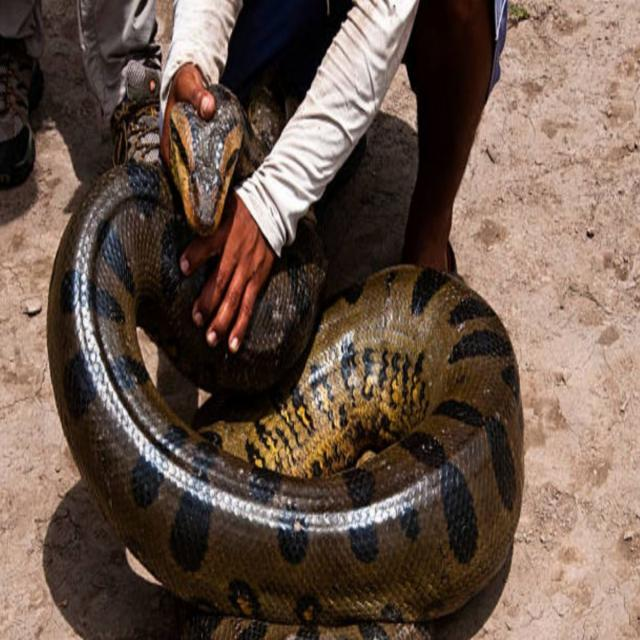Snake: (54, 28, 546, 632)
